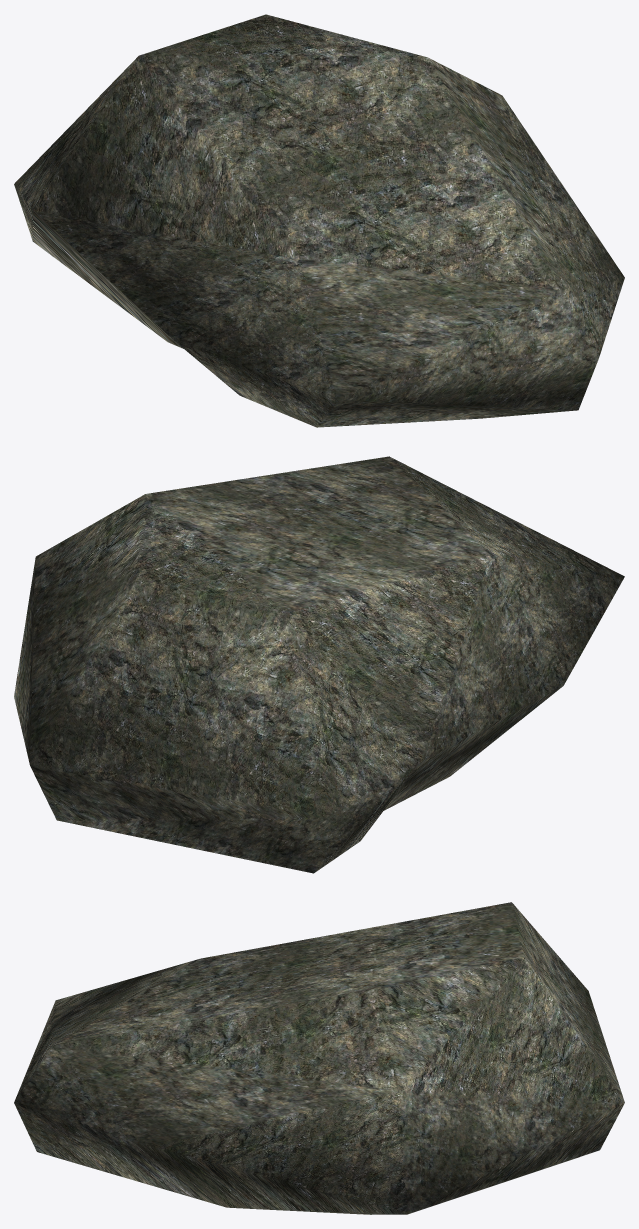
File: mtns_rock_grey_a9_l2.fbx
3 views of the same model, one above another, from view 1: azimuth 30°, elevation 25°; view 2: azimuth 150°, elevation 25°; view 3: azimuth 270°, elevation 25° (orthographic). The views are drawn at different scales.
Visible parts, largest first — view 1: mesh_node; view 2: mesh_node; view 3: mesh_node.
Part boxes in pixels (x1=…): mesh_node: x1=14, y1=14, x2=624, y2=427; mesh_node: x1=14, y1=456, x2=624, y2=873; mesh_node: x1=14, y1=902, x2=624, y2=1214.
Bounding box in the file's own units: 1.57 × 0.8756 × 2.18.
Materials: 1 (1 with a texture image).
